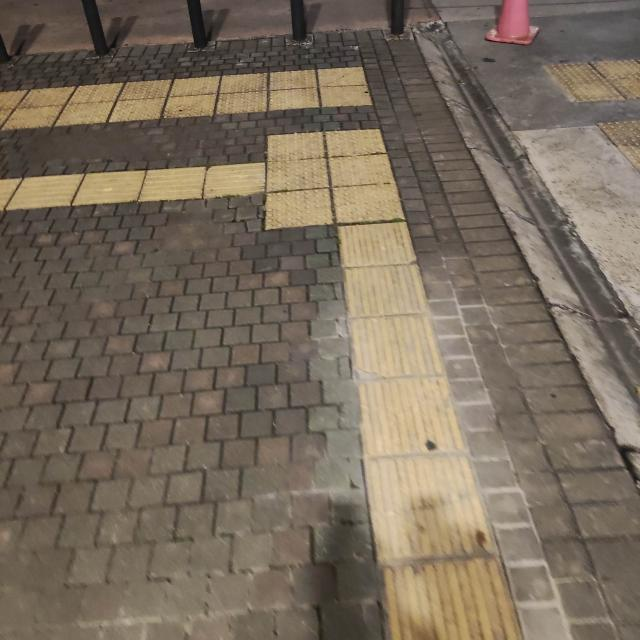kiri: (186, 124, 441, 278)
